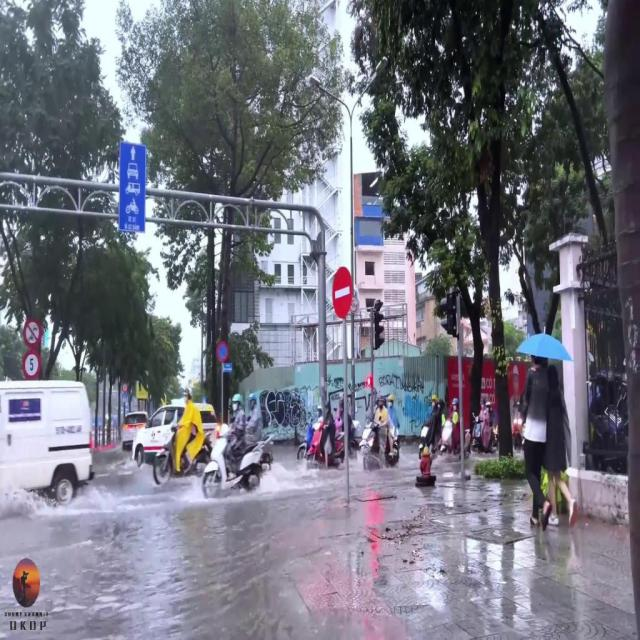cam_do_xe: (216, 341, 228, 363)
cam_xe_di_nguoc_chieu: (332, 267, 352, 318)
khac: (119, 142, 146, 233), (22, 349, 42, 378), (23, 320, 43, 348)
